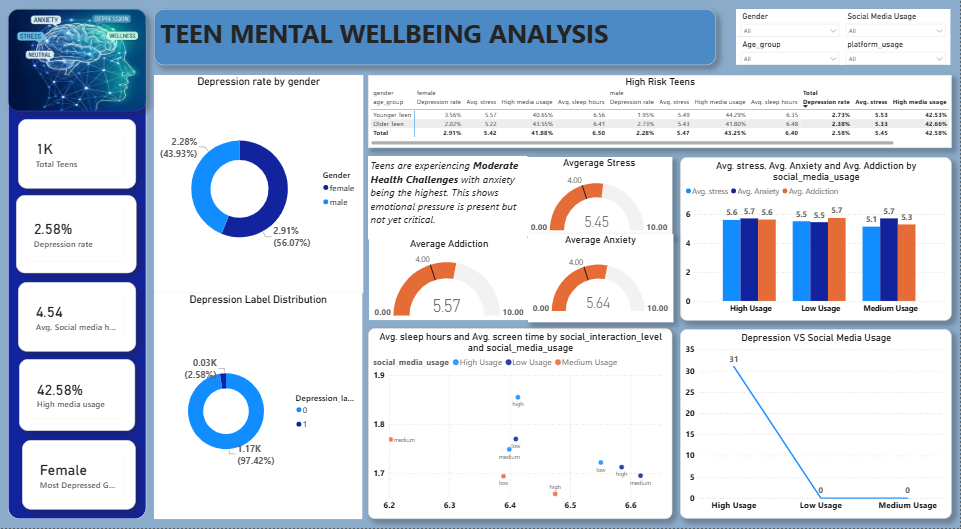

What the dashboard file says about the page in this screenshot:
{"tool":"powerbi","page":{"name":"Dashboard","canvas":[2000,1100],"ordinal":0},"visuals":[{"type":"textbox","box":[320.8,18.8,1170.8,116.7],"z":0},{"type":"textbox","box":[16.7,33.3,287.5,1047.9],"z":0,"group":"g4"},{"type":"gauge","title":"Avgerage Stress","fields":{"Y":["Teen_Mental_health_project.Avg. stress"]},"box":[1095.9,328.1,304.9,166.3],"z":0,"group":"g3"},{"type":"clusteredColumnChart","fields":{"Y":["Teen_Mental_health_project.Avg. stress","Teen_Mental_health_project.Avg. Anxiety","Teen_Mental_health_project.Avg. Addiction"],"Category":["Teen_Mental_health_project.social_media_usage"]},"box":[1415.9,327.3,565.9,340.9],"z":1000},{"type":"gauge","title":"Average Anxiety","fields":{"Y":["Teen_Mental_health_project.Avg. Anxiety"]},"box":[1098.6,486.5,302.5,184.2],"z":1000,"group":"g3"},{"type":"cardVisual","fields":{"Data":["Teen_Mental_health_project.Avg. Social media hours"]},"box":[37.5,587.5,246.4,145.2],"z":1000,"group":"g4"},{"type":"pivotTable","title":"High Risk Teens","fields":{"Rows":["Teen_Mental_health_project.age_group"],"Columns":["Teen_Mental_health_project.gender"],"Values":["Teen_Mental_health_project.Depression rate","Teen_Mental_health_project.Avg. stress","Teen_Mental_health_project.High media usage","Teen_Mental_health_project.Avg. sleep hours"]},"box":[765.9,156.8,1215.9,152.3],"z":2000},{"type":"gauge","title":"Average Addiction","fields":{"Y":["Teen_Mental_health_project.Avg. Addiction"]},"box":[767,496.8,334,171.4],"z":2000,"group":"g3"},{"type":"cardVisual","fields":{"Data":["Teen_Mental_health_project.High media usage"]},"box":[39.9,748.6,241.6,149.7],"z":2000,"group":"g4"},{"type":"cardVisual","fields":{"Data":["Teen_Mental_health_project.Total Teens"]},"box":[38,247.2,246.4,145.2],"z":3000,"group":"g4"},{"type":"scatterChart","fields":{"Category":["Teen_Mental_health_project.social_interaction_level"],"X":["Teen_Mental_health_project.Avg. sleep hours"],"Y":["Teen_Mental_health_project.Avg. screen time"],"Series":["Teen_Mental_health_project.social_media_usage"]},"box":[765.9,684.1,634.1,397.7],"z":3000},{"type":"cardVisual","fields":{"Data":["Teen_Mental_health_project.Depression rate"]},"box":[32.7,406,251.3,163.3],"z":4000,"group":"g4"},{"type":"lineChart","title":"Depression VS Social Media Usage","fields":{"Category":["Teen_Mental_health_project.social_media_usage"],"Y":["Sum(Teen_Mental_health_project.depression_label)"]},"box":[1415.9,686.4,565.9,395.5],"z":4000},{"type":"group","id":"g1","title":"Group 2","box":[320.5,156.8,436.4,925],"z":5000},{"type":"cardVisual","fields":{"Data":["Teen_Mental_health_project.Most Depressed Group"]},"box":[45.5,916.4,236.8,145.2],"z":5000,"group":"g4"},{"type":"group","id":"g2","title":"Group 3","box":[1533.3,18.8,447.9,116.7],"z":6000},{"type":"group","id":"g3","title":"Group 1","box":[765.9,325,634.1,345.5],"z":7000},{"type":"donutChart","title":"Depression Label Distribution","fields":{"Y":["CountNonNull(Teen_Mental_health_project.record_ID)"],"Category":["Teen_Mental_health_project.depression_label"]},"box":[320.5,610.4,434,471.4],"z":7000,"group":"g1"},{"type":"group","id":"g4","title":"Group 1","box":[16.7,33.3,287.5,1047.9],"z":8000},{"type":"image","box":[16.7,18.8,287.5,212.5],"z":9000},{"type":"slicer","fields":{"Values":["Teen_Mental_health_project.gender"]},"box":[1533.3,18.8,225.5,58.3],"z":12000,"group":"g2"},{"type":"slicer","fields":{"Values":["Teen_Mental_health_project.age_group"]},"box":[1533.3,77.1,225.5,58.3],"z":13000,"group":"g2"},{"type":"donutChart","fields":{"Category":["Teen_Mental_health_project.gender"],"Y":["Teen_Mental_health_project.Depression rate"]},"box":[320.5,156.8,436.4,453.6],"z":13003,"group":"g1"},{"type":"slicer","fields":{"Values":["Teen_Mental_health_project.social_media_usage"]},"box":[1752.7,18.8,228.5,60.2],"z":14000,"group":"g2"},{"type":"slicer","fields":{"Values":["Teen_Mental_health_project.platform_usage"]},"box":[1752.7,77.1,228.5,58.3],"z":15000,"group":"g2"},{"type":"textbox","box":[765.9,325,331.6,174],"z":15002,"group":"g3"}]}

Visuals, with their boxes in screenshot pixels (x1, y1, x2, y2), scaled from the page's 2000x1100 canvas onto the 961x529 screenshot:
textbox: bbox(154, 9, 717, 65)
textbox: bbox(8, 16, 146, 520)
"Avgerage Stress" gauge: bbox(527, 158, 673, 238)
clusteredColumnChart - Teen_Mental_health_project.Avg. stress x Teen_Mental_health_project.Avg. Anxiety: bbox(680, 157, 952, 321)
"Average Anxiety" gauge: bbox(528, 234, 673, 323)
cardVisual - Teen_Mental_health_project.Avg. Social media hours: bbox(18, 283, 136, 352)
"High Risk Teens" pivotTable: bbox(368, 75, 952, 149)
"Average Addiction" gauge: bbox(369, 239, 529, 321)
cardVisual - Teen_Mental_health_project.High media usage: bbox(19, 360, 135, 432)
cardVisual - Teen_Mental_health_project.Total Teens: bbox(18, 119, 137, 189)
scatterChart - Teen_Mental_health_project.social_interaction_level x Teen_Mental_health_project.Avg. sleep hours: bbox(368, 329, 673, 520)
cardVisual - Teen_Mental_health_project.Depression rate: bbox(16, 195, 136, 274)
"Depression VS Social Media Usage" lineChart: bbox(680, 330, 952, 520)
"Group 2" group: bbox(154, 75, 364, 520)
cardVisual - Teen_Mental_health_project.Most Depressed Group: bbox(22, 441, 136, 511)
"Group 3" group: bbox(737, 9, 952, 65)
"Group 1" group: bbox(368, 156, 673, 322)
"Depression Label Distribution" donutChart: bbox(154, 294, 363, 520)
"Group 1" group: bbox(8, 16, 146, 520)
image: bbox(8, 9, 146, 111)
slicer - Teen_Mental_health_project.gender: bbox(737, 9, 845, 37)
slicer - Teen_Mental_health_project.age_group: bbox(737, 37, 845, 65)
donutChart - Teen_Mental_health_project.gender x Teen_Mental_health_project.Depression rate: bbox(154, 75, 364, 294)
slicer - Teen_Mental_health_project.social_media_usage: bbox(842, 9, 952, 38)
slicer - Teen_Mental_health_project.platform_usage: bbox(842, 37, 952, 65)
textbox: bbox(368, 156, 527, 240)
